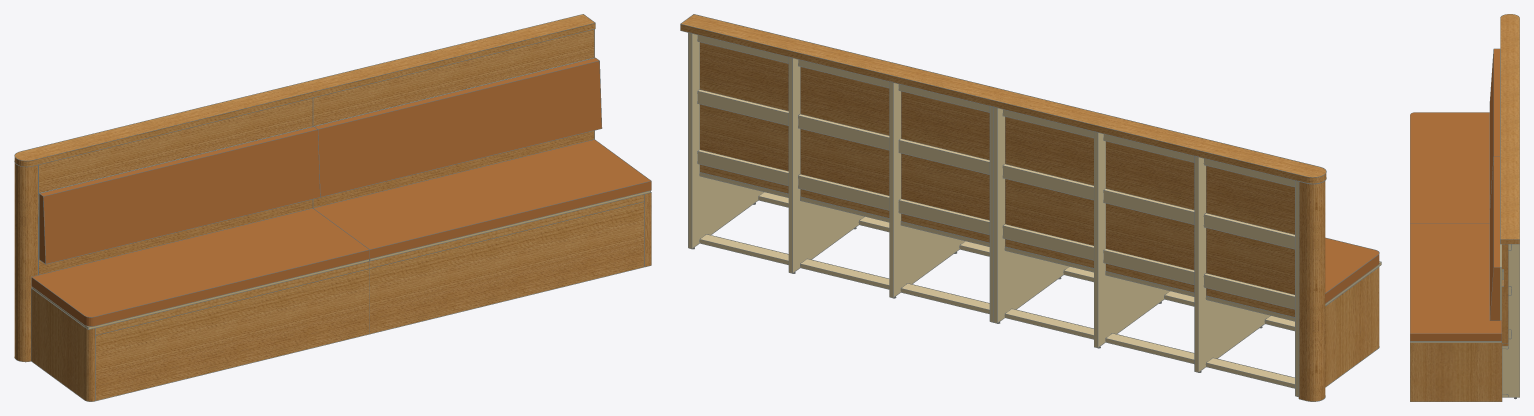
The model's file is modell.glb.
3 renders of one model, left to right at view 1: azimuth 30°, elevation 25°; view 2: azimuth 150°, elevation 25°; view 3: azimuth 270°, elevation 25°, orthographic. The views are drawn at different scales.
Bounding box in the file's own units: 3279 × 1103 × 676.
7 materials, 1 textured.
